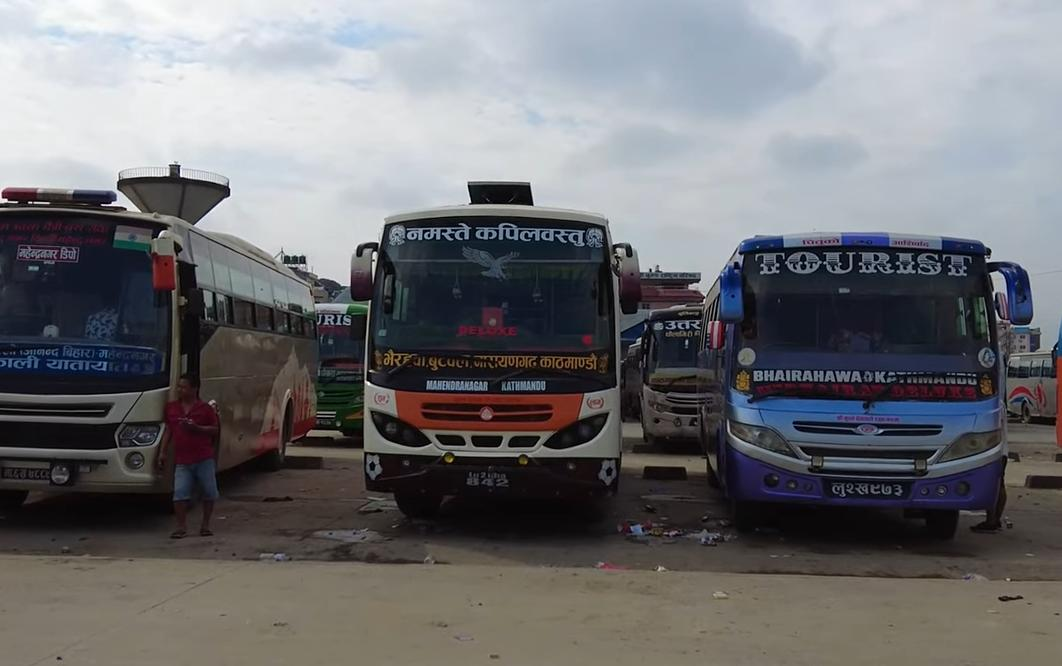bus: (5, 170, 320, 513), (717, 220, 1005, 537), (362, 192, 625, 537), (625, 297, 727, 461)
